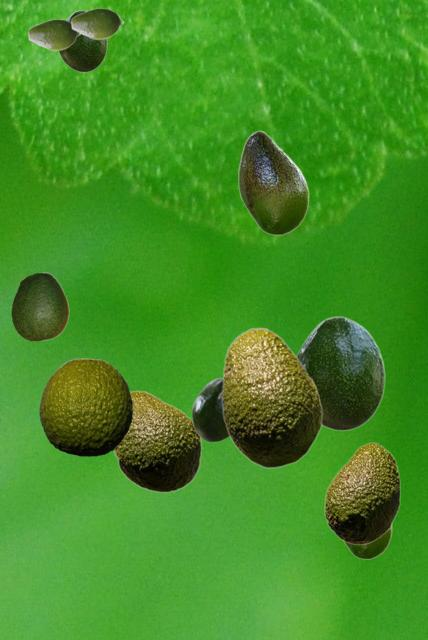avocado: (217, 327, 322, 467), (296, 316, 384, 430), (113, 390, 201, 492), (39, 358, 131, 455), (324, 442, 399, 544), (238, 130, 308, 234), (11, 272, 68, 340), (58, 10, 106, 71), (191, 377, 228, 441), (27, 18, 80, 50), (70, 7, 123, 39), (342, 530, 391, 558)
